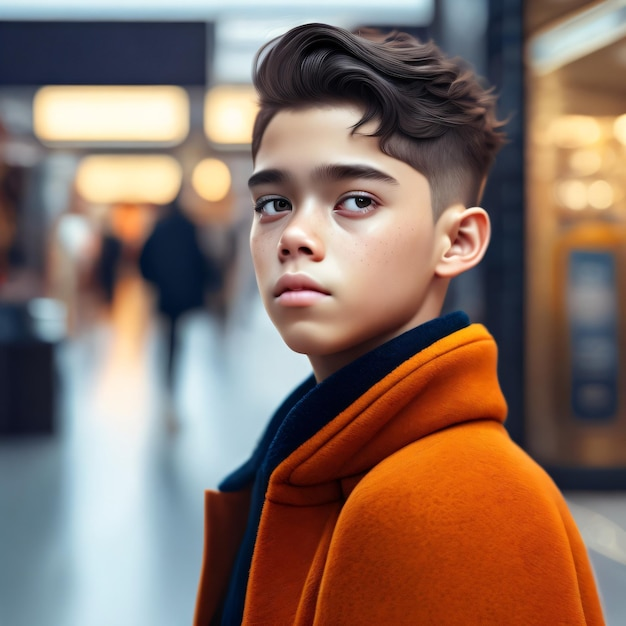teen: (219, 22, 494, 355)
